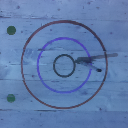Axe Tip: (80, 60, 93, 63)
